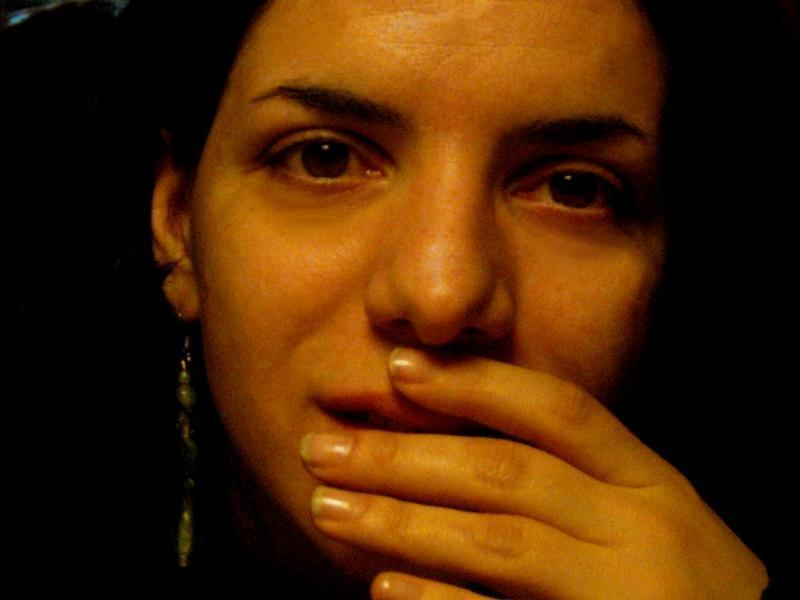Eyebags: (509, 201, 628, 260), (268, 172, 385, 227)
